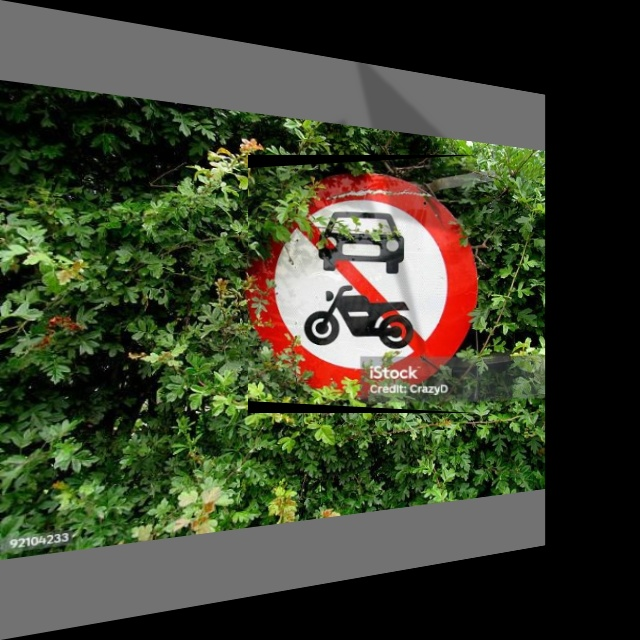All_Motor_Vehicles_Prohibited: (248, 155, 477, 413)
